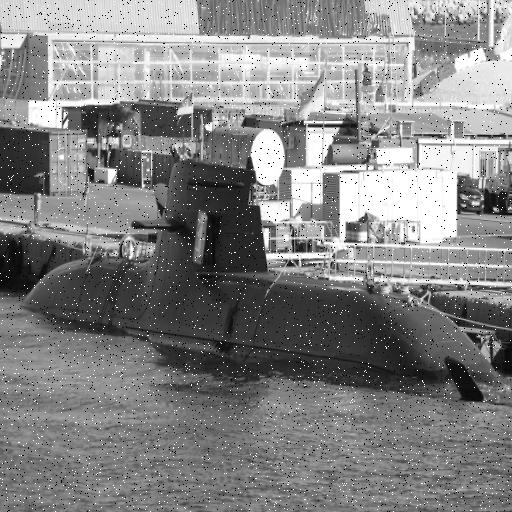submarine: (14, 151, 512, 401)
